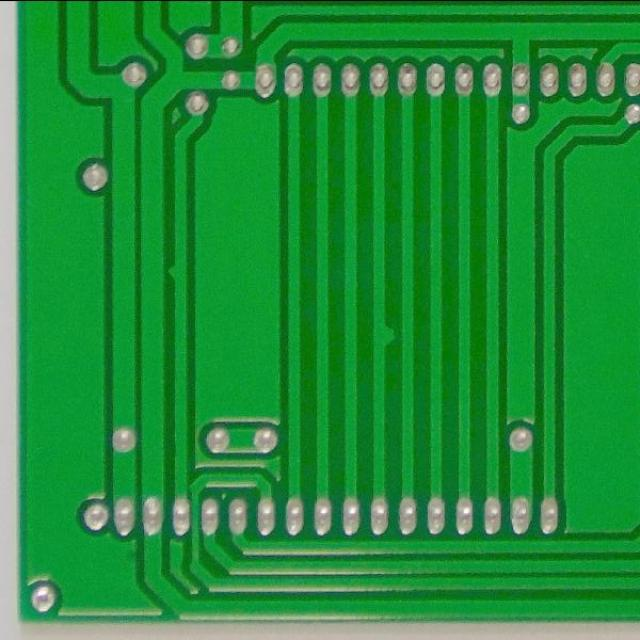spur: (367, 317, 401, 359), (161, 255, 190, 291)
